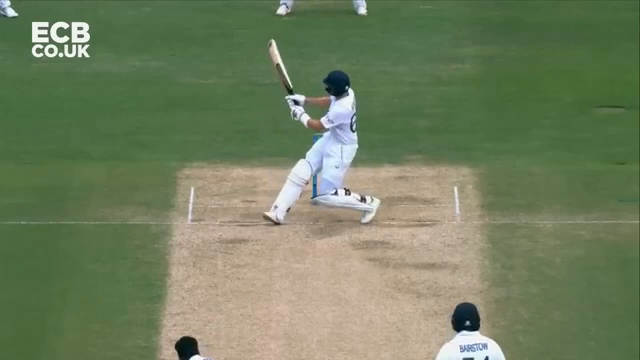batsman: (260, 37, 380, 225)
